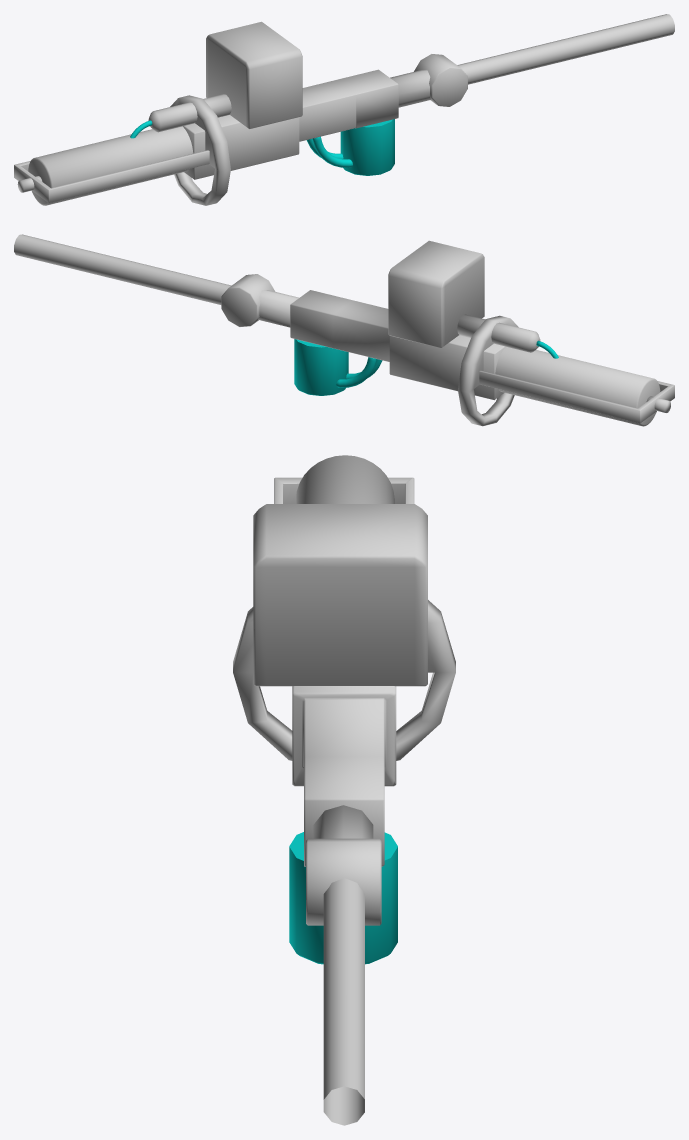
File: Ranged_Arm_Right.fbx
3 renders of one model, top to bottom at view 1: azimuth 30°, elevation 25°; view 2: azimuth 150°, elevation 25°; view 3: azimuth 270°, elevation 25°, orthographic. The views are drawn at different scales.
Visible parts, largest first — view 1: mesh_ranged_robot_Rigth_Arm; view 2: mesh_ranged_robot_Rigth_Arm; view 3: mesh_ranged_robot_Rigth_Arm.
Part boxes in pixels (<box>): mesh_ranged_robot_Rigth_Arm: <box>14,14,674,205</box>; mesh_ranged_robot_Rigth_Arm: <box>14,234,674,426</box>; mesh_ranged_robot_Rigth_Arm: <box>233,455,455,1125</box>.
Size of the model in its own units: 152 by 33.95 by 22.55.
